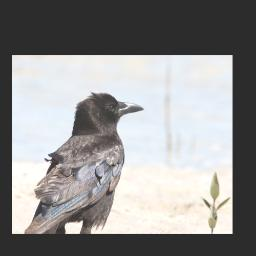Crow: (24, 91, 146, 234)
